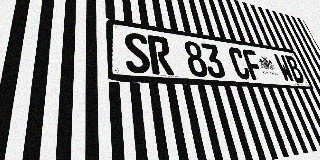3: (201, 43, 226, 78)
8: (183, 40, 209, 77)
B: (284, 55, 306, 83)
C: (227, 47, 252, 80)
F: (241, 49, 266, 81)
R: (147, 35, 175, 75)
S: (123, 31, 152, 74)
W: (273, 54, 296, 82)
